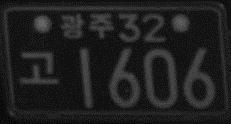0: (143, 46, 177, 108)
1: (76, 46, 95, 109)
2: (140, 12, 166, 44)
3: (117, 11, 139, 43)
6: (182, 46, 217, 110), (108, 47, 143, 108)
고: (17, 49, 61, 86)
광주_O: (59, 11, 114, 39)
